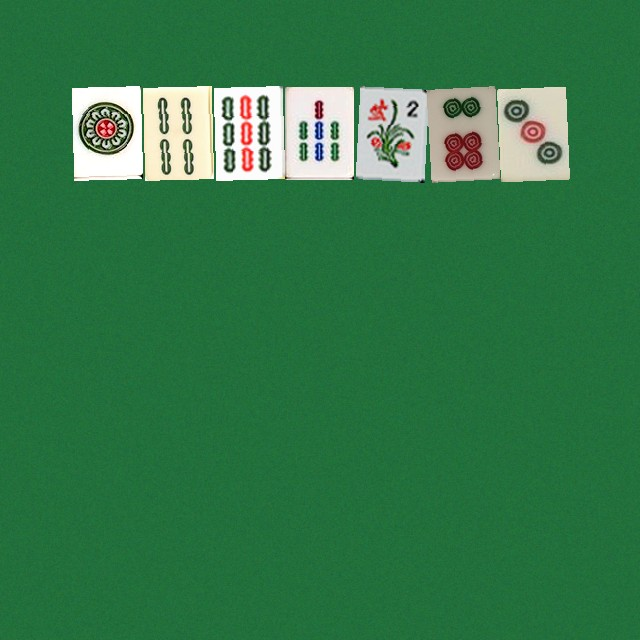tile: (71, 86, 140, 179), (142, 86, 211, 179), (213, 86, 282, 179), (284, 86, 353, 179), (355, 86, 424, 179), (426, 86, 495, 179), (497, 86, 566, 179)
